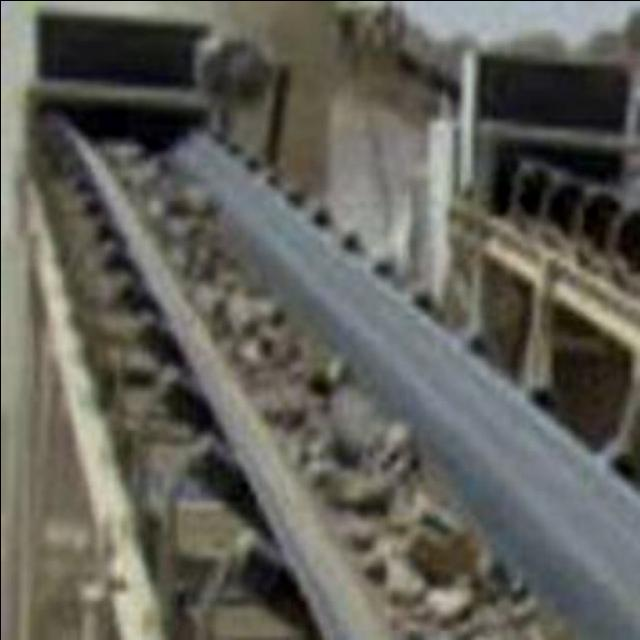conveyor: (77, 131, 640, 640)
